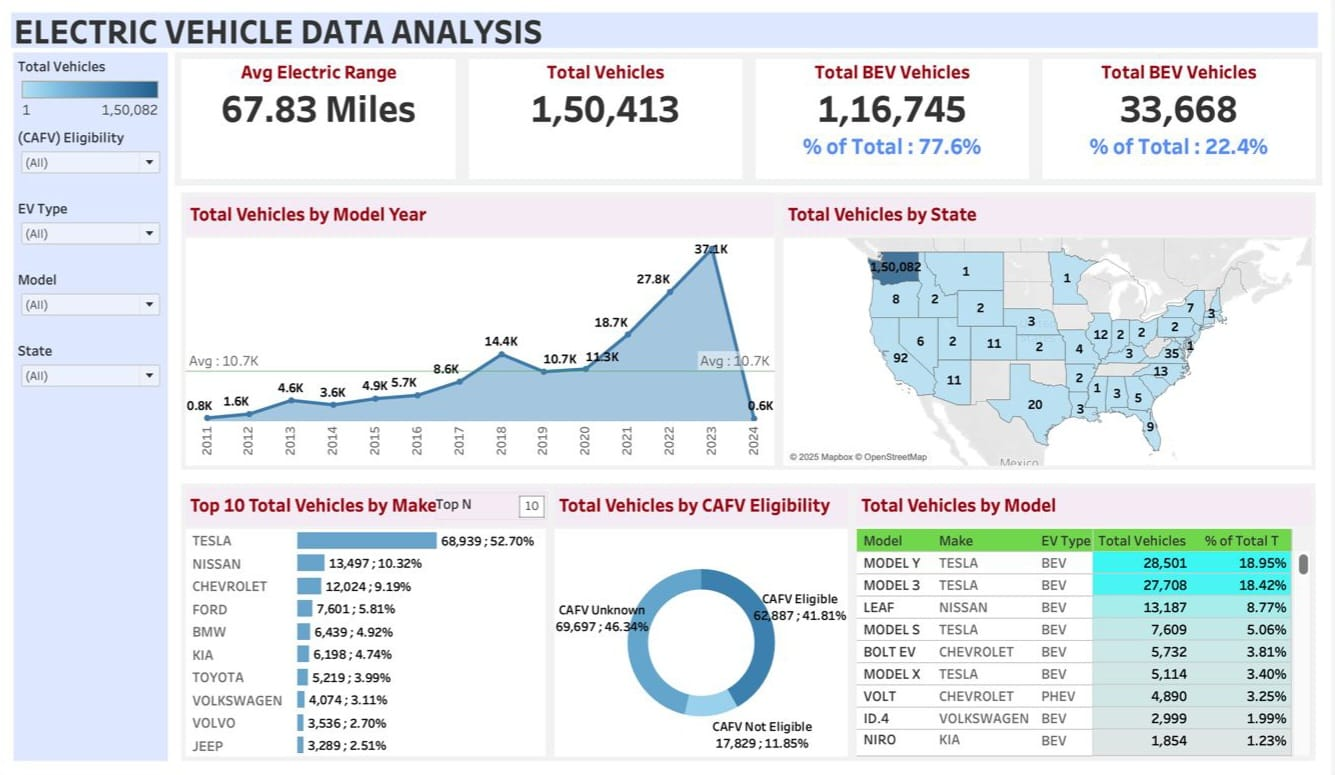

What the dashboard file says about the page in this screenshot:
{"tool":"tableau","page":{"name":"Dashboard 1","canvas":[1200,700],"ordinal":0},"visuals":[{"type":"title","box":[8,8,1184,40]},{"type":"legend","title":"Total Vehicles by State","param":"[federated.020shr316is77c1foba2m1u87okz].[usr:Calculation_109353065258905600:qk]","box":[14,48,139,64]},{"type":"worksheet","title":"Avg Electric Range","mark":"Automatic","box":[159,48,259,120]},{"type":"worksheet","title":"Total Vehicles","mark":"Automatic","box":[418,48,258,120]},{"type":"worksheet","title":"Total BEV Vehicles","mark":"Automatic","box":[676,48,258,120]},{"type":"worksheet","title":"Total PHEV Vehicles","mark":"Automatic","box":[934,48,258,120]},{"type":"filter","title":"Total Vehicles by Model Year","param":"[federated.020shr316is77c1foba2m1u87okz].[none:Clean Alternative Fuel Vehicle (C","box":[14,112,139,64]},{"type":"worksheet","title":"Total Vehicles by Model Year","mark":"Area","rows":["Calculation_109353065258905600","Calculation_109353065258905600"],"cols":["Model Year"],"box":[165,174.5,538,249.8]},{"type":"worksheet","title":"Total Vehicles by State","mark":"Multipolygon","box":[703,174.5,483,249.8]},{"type":"filter","title":"Total Vehicles by Model Year","param":"[federated.020shr316is77c1foba2m1u87okz].[none:Electric Vehicle Type:nk]","box":[14,176,139,64]},{"type":"filter","title":"Total Vehicles by Model Year","param":"[federated.020shr316is77c1foba2m1u87okz].[none:Model:nk]","box":[14,240,139,64]},{"type":"filter","title":"Total Vehicles by Model Year","param":"[federated.020shr316is77c1foba2m1u87okz].[none:State:nk]","box":[14,304,139,64]},{"type":"blank","box":[14,368,139,64]},{"type":"blank","box":[14,432,139,64]},{"type":"worksheet","title":"Top 10 Total Vehicles by Make","mark":"Automatic","rows":["Make"],"cols":["Calculation_109353065258905600"],"box":[165,436.2,332,249.8]},{"type":"worksheet","title":"Total Vehicles by CAFV Eligibility","mark":"Pie","rows":["Calculation_142707850058694659","Calculation_142707850058694659"],"box":[497,436.2,272,249.8]},{"type":"worksheet","title":"Total Vehicles by Model","mark":"Square","rows":["Model","Make","Electric Vehicle Type"],"box":[769,436.2,417,249.8]},{"type":"parameter","param":"[Parameters].[Parameter 1]","box":[394,444,101,25]},{"type":"blank","box":[14,496,139,64]},{"type":"blank","box":[14,560,139,63]},{"type":"blank","box":[14,623,139,63]}]}

Visuals, with their boxes in screenshot pixels (x1, y1, x2, y2), scaled from the page's 1200x700 canvas onto the 1335x775 screenshot:
title: 9 9 1326 53
"Total Vehicles by State" legend: 16 53 170 124
"Avg Electric Range" worksheet: 177 53 465 186
"Total Vehicles" worksheet: 465 53 752 186
"Total BEV Vehicles" worksheet: 752 53 1039 186
"Total PHEV Vehicles" worksheet: 1039 53 1326 186
"Total Vehicles by Model Year" filter: 16 124 170 195
"Total Vehicles by Model Year" worksheet (Area marks): 184 193 782 470
"Total Vehicles by State" worksheet (Multipolygon marks): 782 193 1319 470
"Total Vehicles by Model Year" filter: 16 195 170 266
"Total Vehicles by Model Year" filter: 16 266 170 337
"Total Vehicles by Model Year" filter: 16 337 170 407
blank: 16 407 170 478
blank: 16 478 170 549
"Top 10 Total Vehicles by Make" worksheet: 184 483 553 760
"Total Vehicles by CAFV Eligibility" worksheet (Pie marks): 553 483 856 760
"Total Vehicles by Model" worksheet (Square marks): 856 483 1319 760
parameter: 438 492 551 519
blank: 16 549 170 620
blank: 16 620 170 690
blank: 16 690 170 760
